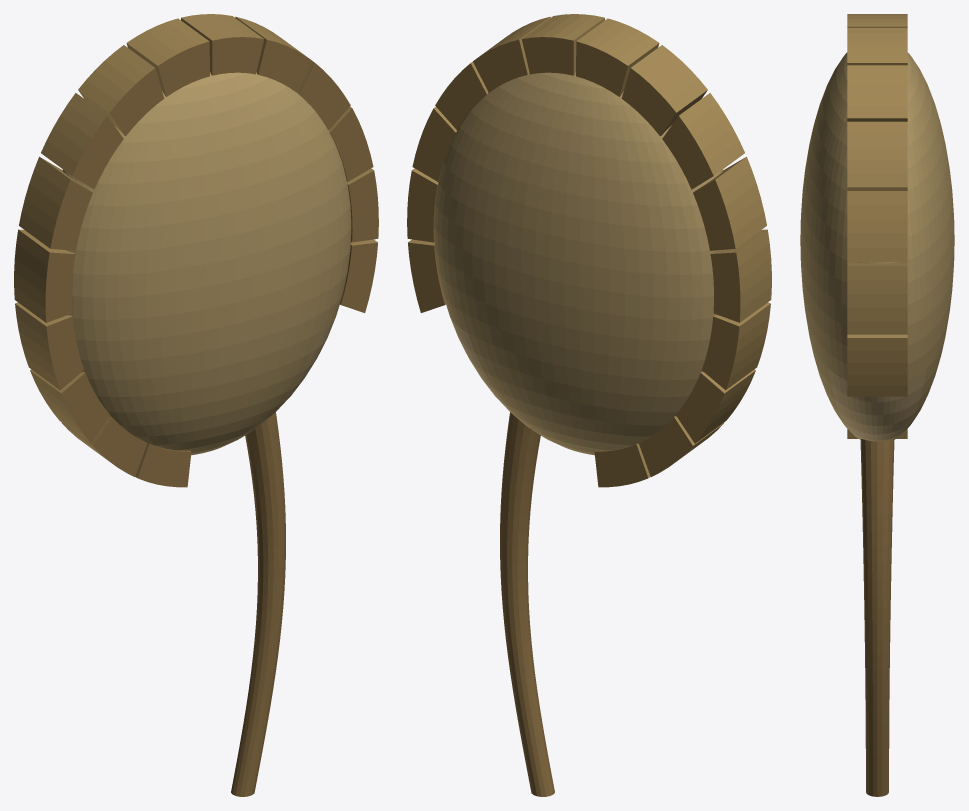
The picture shows the model from 3 angles, left to right: view 1: azimuth 30°, elevation 25°; view 2: azimuth 150°, elevation 25°; view 3: azimuth 270°, elevation 25°; orthographic projection. The views are drawn at different scales.
Visible parts, largest first — view 1: WholeFlattenedClosedCapsule, WholeSlenderCurvedPedicel, WholeAnnulusCell_10, WholeAnnulusCell_09, WholeAnnulusCell_08, WholeAnnulusCell_11, WholeAnnulusCell_07, WholeAnnulusCell_12, WholeAnnulusCell_06, WholeAnnulusCell_13, WholeAnnulusCell_05, WholeAnnulusCell_14 (+5 smaller); view 2: WholeFlattenedClosedCapsule, WholeSlenderCurvedPedicel, WholeAnnulusCell_10, WholeAnnulusCell_09, WholeAnnulusCell_08, WholeAnnulusCell_11, WholeAnnulusCell_07, WholeAnnulusCell_12, WholeAnnulusCell_06, WholeAnnulusCell_13, WholeAnnulusCell_05, WholeAnnulusCell_14 (+5 smaller); view 3: WholeFlattenedClosedCapsule, WholeSlenderCurvedPedicel, WholeAnnulusCell_02, WholeAnnulusCell_03, WholeAnnulusCell_04, WholeAnnulusCell_01, WholeAnnulusCell_05, WholeAnnulusCell_06, WholeAnnulusCell_07.
Boxes of the visible parts, x1,y1,x2,y2 form: WholeFlattenedClosedCapsule: (62, 72, 351, 455); WholeSlenderCurvedPedicel: (231, 412, 285, 796); WholeAnnulusCell_10: (19, 156, 92, 250); WholeAnnulusCell_09: (41, 93, 123, 189); WholeAnnulusCell_08: (78, 45, 164, 136); WholeAnnulusCell_11: (14, 229, 75, 322); WholeAnnulusCell_07: (126, 18, 209, 96); WholeAnnulusCell_12: (15, 302, 83, 390); WholeAnnulusCell_06: (181, 14, 263, 75); WholeAnnulusCell_13: (30, 369, 109, 443); WholeAnnulusCell_05: (235, 16, 312, 92); WholeAnnulusCell_14: (62, 416, 147, 476); WholeFlattenedClosedCapsule: (434, 72, 723, 455); WholeSlenderCurvedPedicel: (500, 412, 554, 796); WholeAnnulusCell_10: (693, 156, 766, 250); WholeAnnulusCell_09: (662, 93, 744, 189); WholeAnnulusCell_08: (621, 45, 707, 136); WholeAnnulusCell_11: (710, 229, 771, 322); WholeAnnulusCell_07: (576, 18, 659, 96); WholeAnnulusCell_12: (702, 302, 770, 390); WholeAnnulusCell_06: (522, 14, 604, 75); WholeAnnulusCell_13: (676, 369, 755, 443); WholeAnnulusCell_05: (473, 16, 550, 92); WholeAnnulusCell_14: (638, 416, 723, 476); WholeFlattenedClosedCapsule: (800, 52, 954, 441); WholeSlenderCurvedPedicel: (860, 439, 894, 796); WholeAnnulusCell_02: (847, 262, 907, 334); WholeAnnulusCell_03: (847, 191, 907, 262); WholeAnnulusCell_04: (847, 121, 907, 190); WholeAnnulusCell_01: (847, 334, 907, 396); WholeAnnulusCell_05: (847, 65, 907, 121); WholeAnnulusCell_06: (847, 28, 907, 65); WholeAnnulusCell_07: (847, 14, 907, 27).
Bounding box in the file's own units: 0.0574 × 0.1275 × 0.024.
